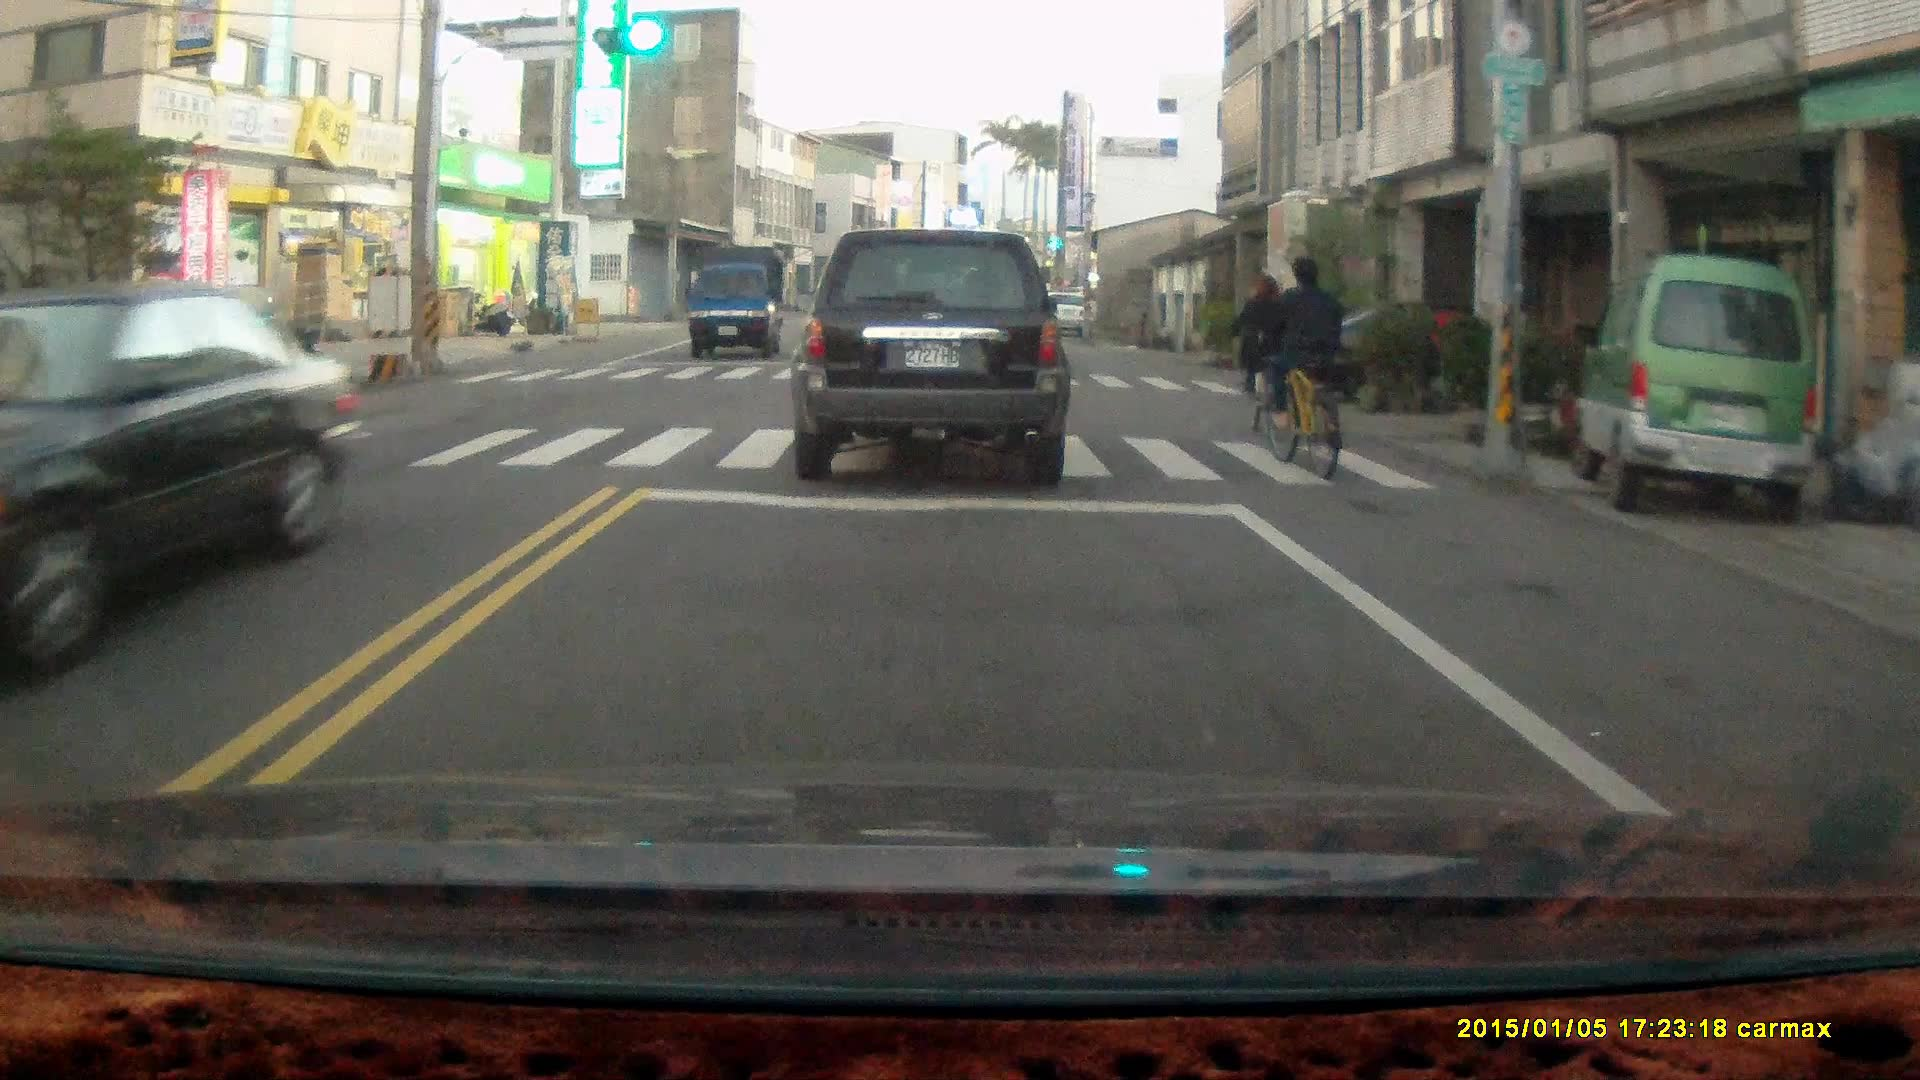rider: (1260, 252, 1349, 476), (1232, 274, 1293, 441)
vehicle: (3, 290, 342, 662), (793, 229, 1071, 488), (1590, 258, 1831, 530), (1309, 302, 1562, 418), (687, 251, 790, 361)
